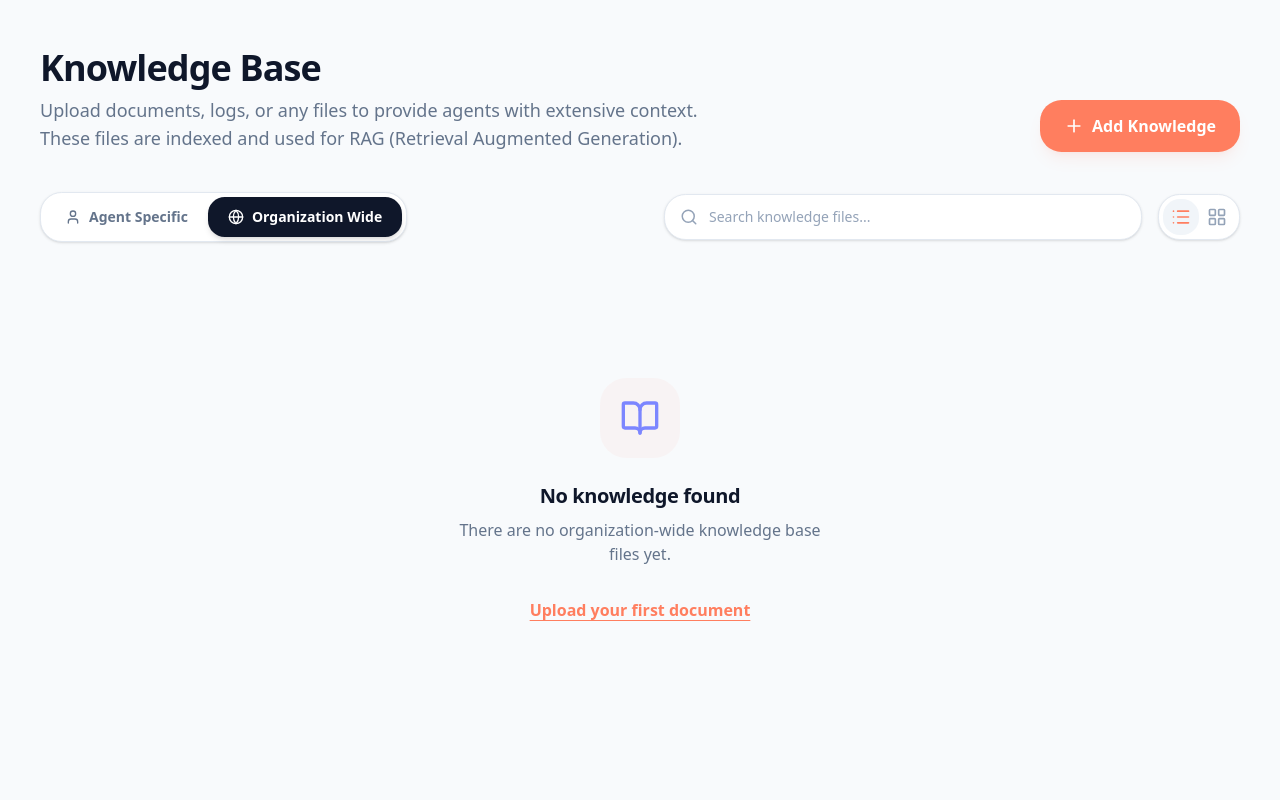
Test: the knowledge base page › the empty state › opens the modal from that prompt
The width and height of the screenshot is (1280, 800).
Click the button "Upload your first document": (640, 610) [530,598,750,622]
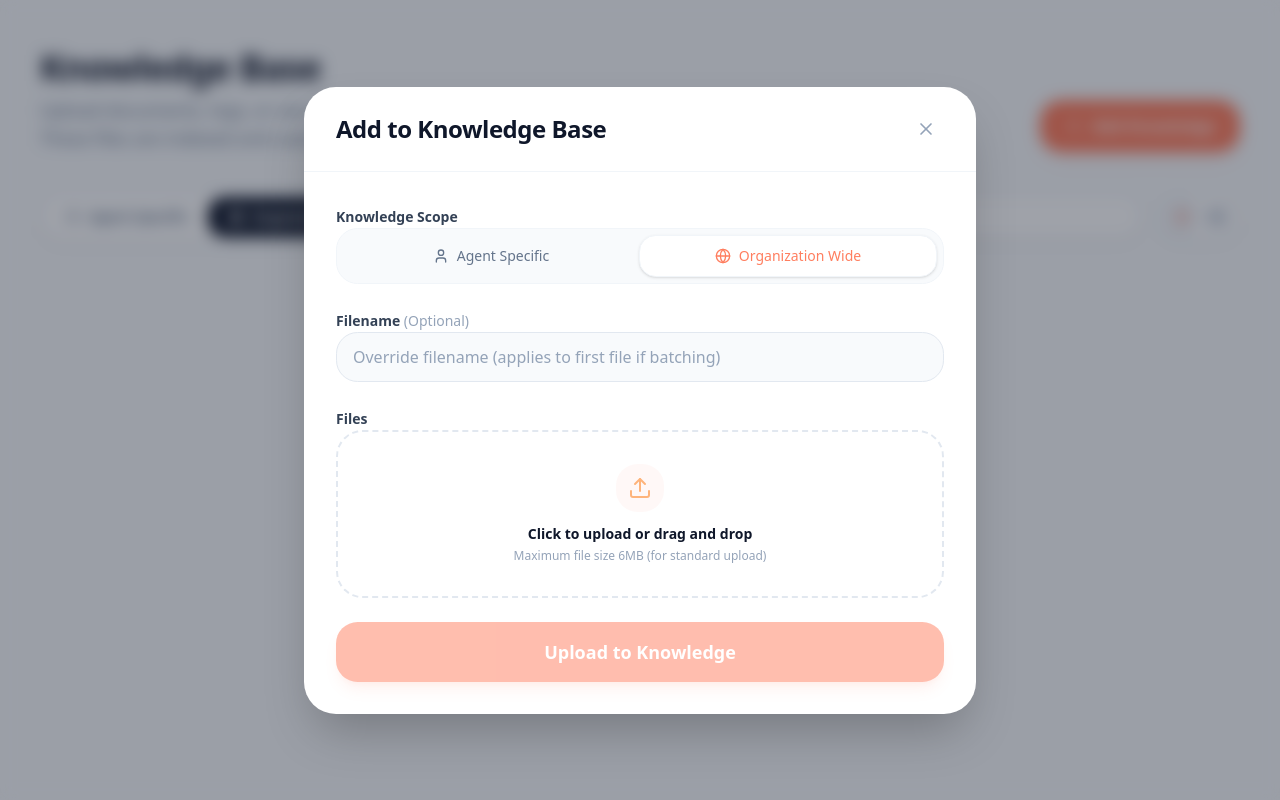
Expected: the heading "Add to Knowledge Base" is shown, [336,112,606,144]
